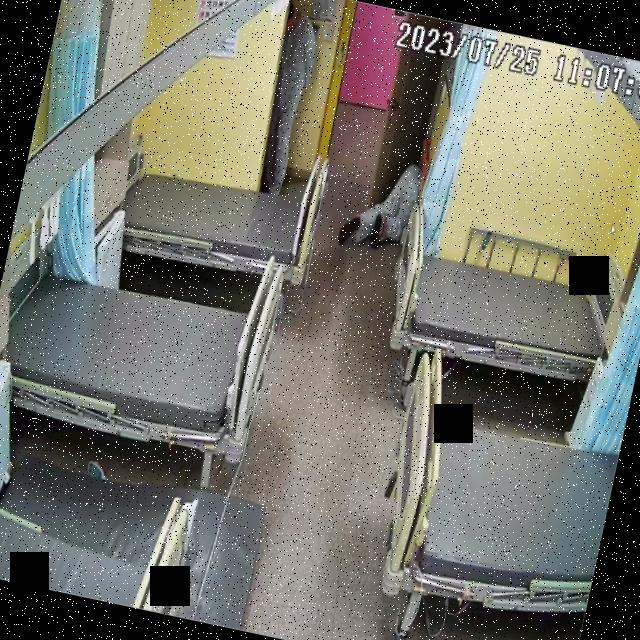bed: (366, 345, 632, 630), (0, 254, 279, 458), (378, 228, 632, 394), (116, 150, 321, 286)
fall: (338, 150, 427, 264)
patient: (253, 0, 328, 195), (338, 148, 428, 262)
stand: (251, 0, 328, 194)
